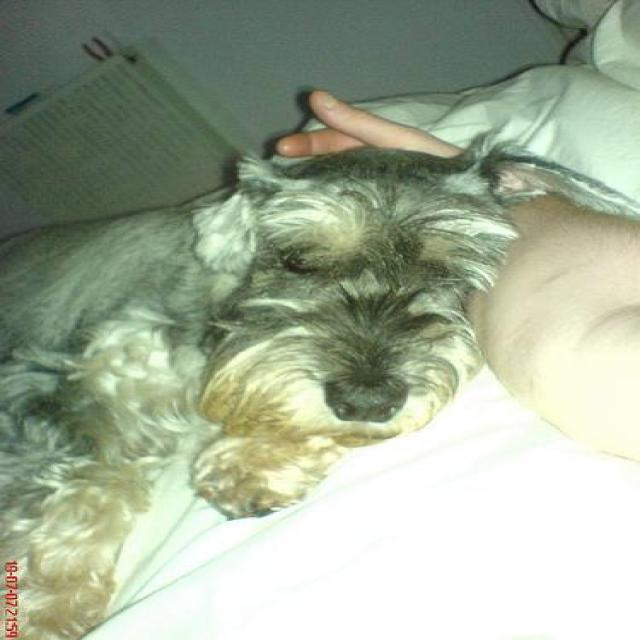standard_schnauzer: (0, 124, 631, 637)
